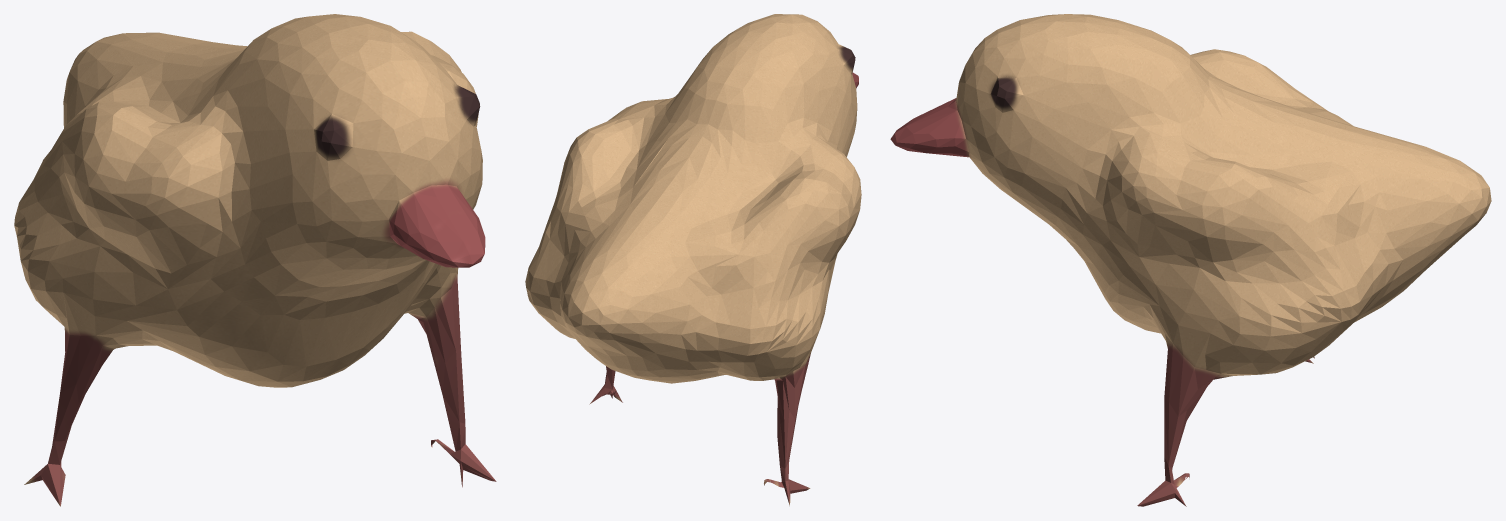
File: chicken_4.obj
3 views of the same model, side by side, from view 1: azimuth 30°, elevation 25°; view 2: azimuth 150°, elevation 25°; view 3: azimuth 270°, elevation 25° (orthographic). The views are drawn at different scales.
Parts seen in each view (by area): view 1: TRYout:Group36674_Group36674; view 2: TRYout:Group36674_Group36674; view 3: TRYout:Group36674_Group36674.
Part boxes in pixels (<box>): TRYout:Group36674_Group36674: <box>14,14,496,506</box>; TRYout:Group36674_Group36674: <box>525,14,861,505</box>; TRYout:Group36674_Group36674: <box>890,14,1491,506</box>.
Bounding box in the file's own units: 3.74 × 4.81 × 6.22.
Materials: 1 (1 with a texture image).
